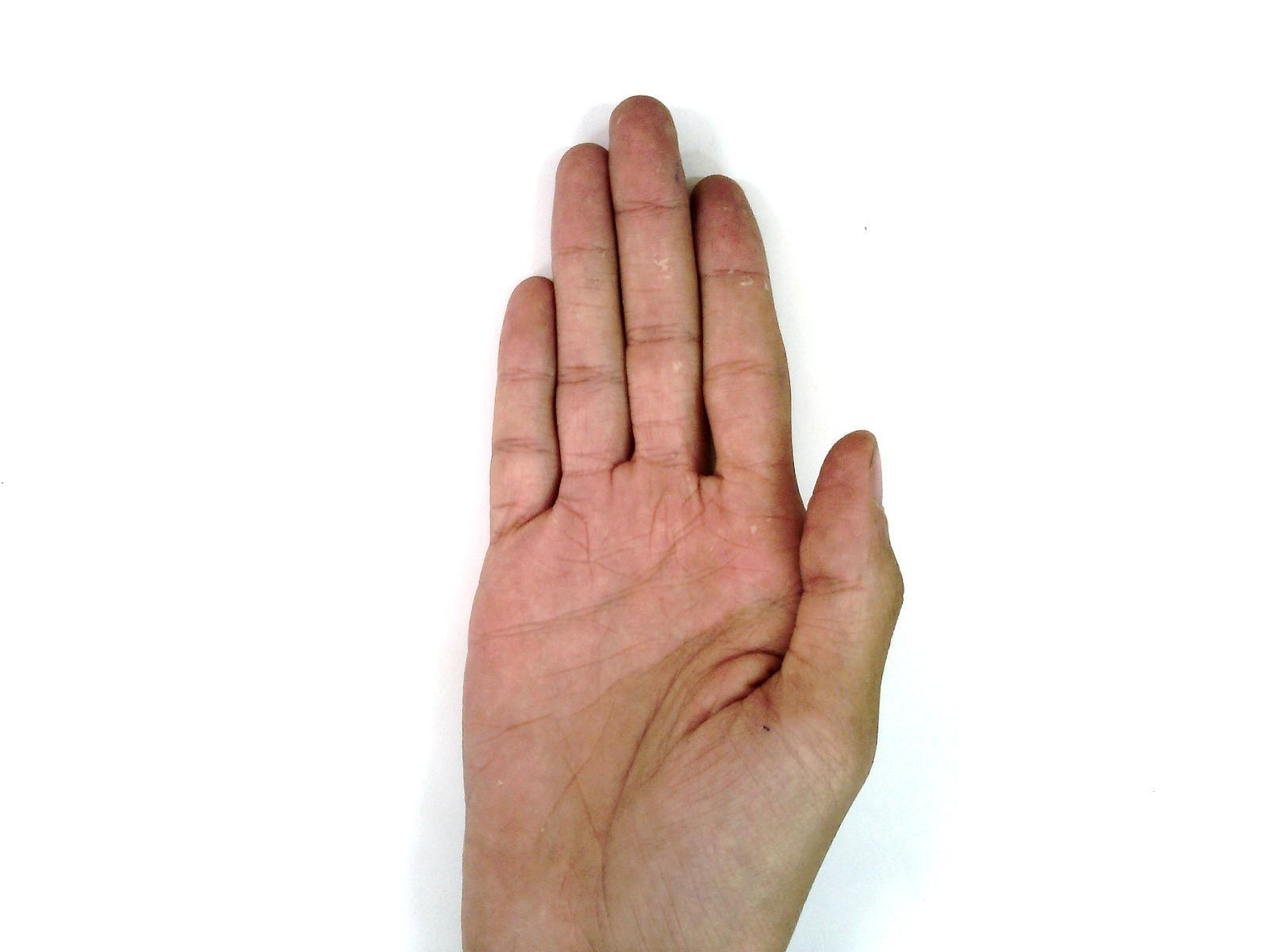open_palm: (456, 94, 907, 951)
